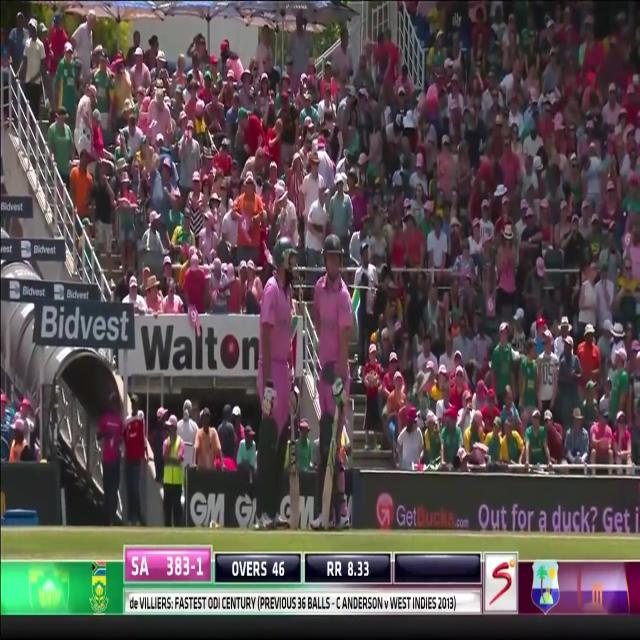Ball: (310, 233, 357, 533)
